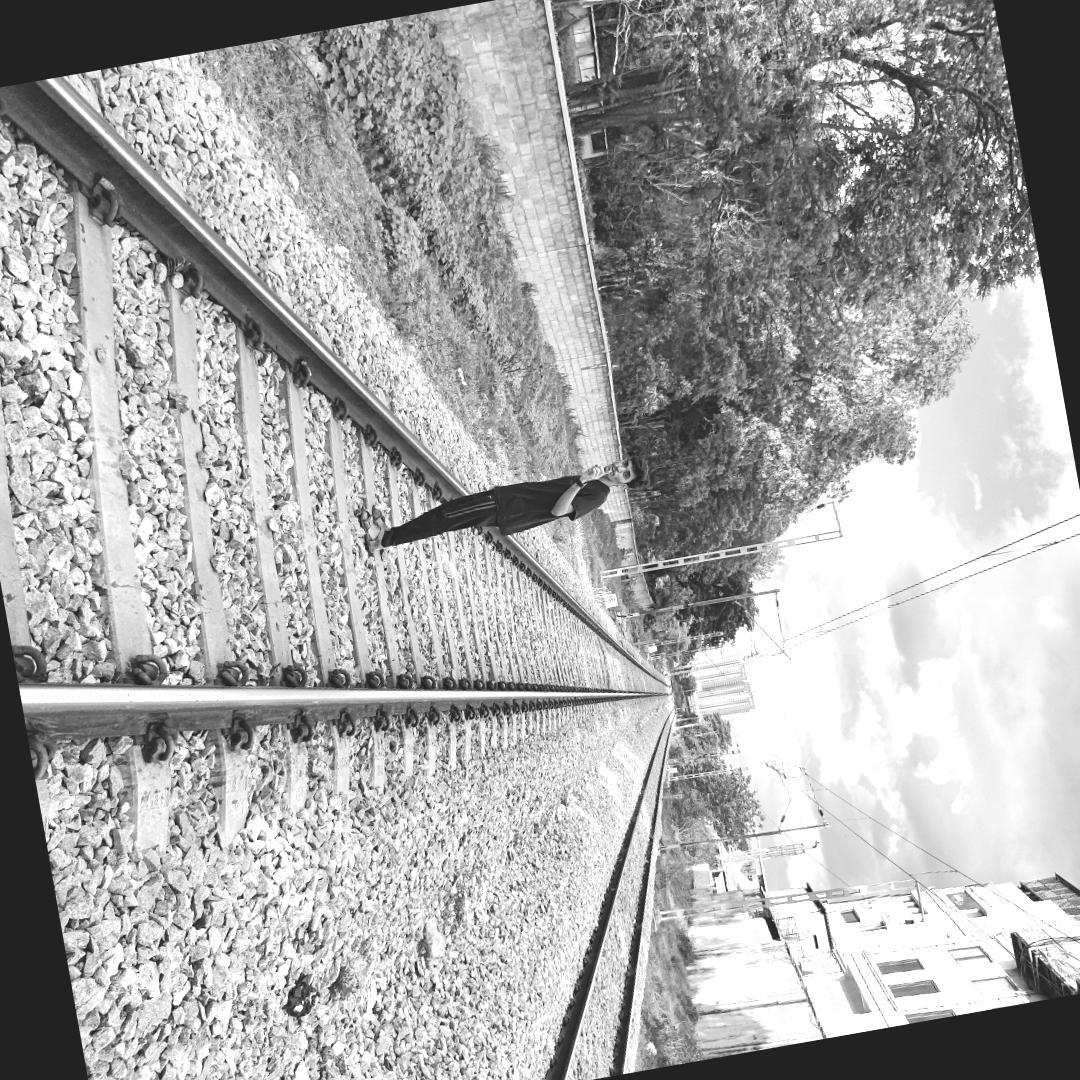standing: (342, 444, 650, 574)
